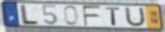0: (62, 5, 81, 27)
5: (41, 4, 59, 27)
F: (82, 5, 103, 27)
L: (20, 4, 41, 26)
T: (105, 6, 122, 26)
U: (125, 6, 147, 28)
